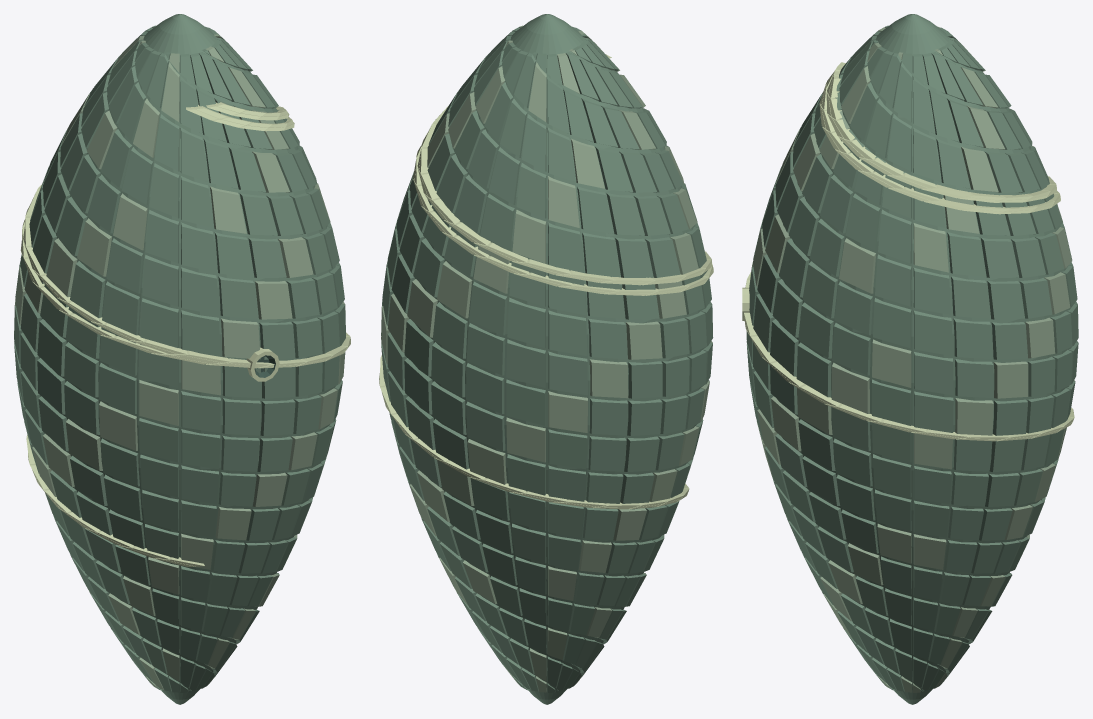
The model's file is helicoplacus.glb.
The picture shows the model from 3 angles, left to right: view 1: azimuth 30°, elevation 25°; view 2: azimuth 150°, elevation 25°; view 3: azimuth 270°, elevation 25°; orthographic projection.
Visible parts, largest first — view 1: helicoplacus-original-organism; view 2: helicoplacus-original-organism; view 3: helicoplacus-original-organism.
Boxes of the visible parts, x1,y1,x2,y2 form: helicoplacus-original-organism: (14,14,350,704); helicoplacus-original-organism: (379,14,713,704); helicoplacus-original-organism: (742,14,1078,704).
Size of the model in its own units: 0.0176 by 0.04 by 0.0177.
